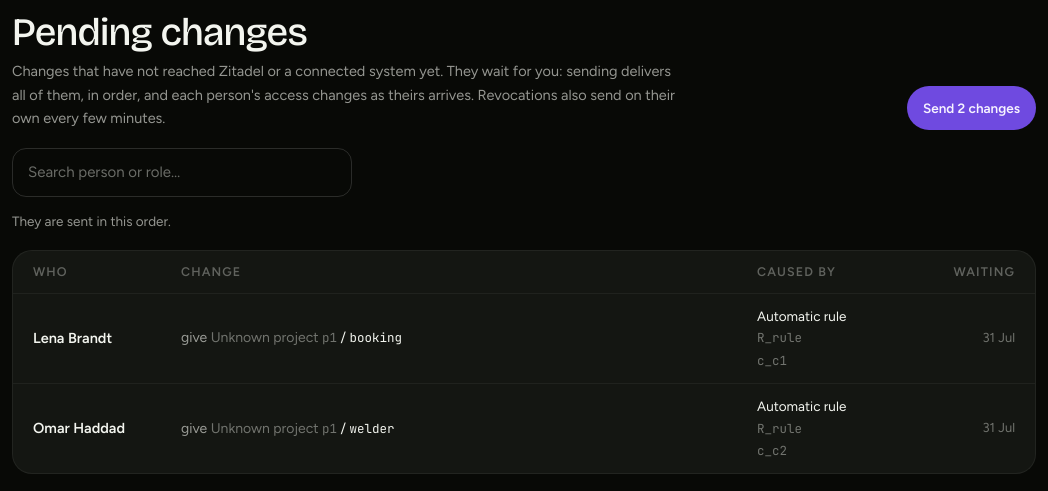
Test: Pending changes · board layout › search › says so when nothing matches, rather than claiming nothing is waiting
This screenshot has width=1048, height=491.
In the field named "Search pending changes": (182, 173) [12, 148, 352, 197], type "zzz"
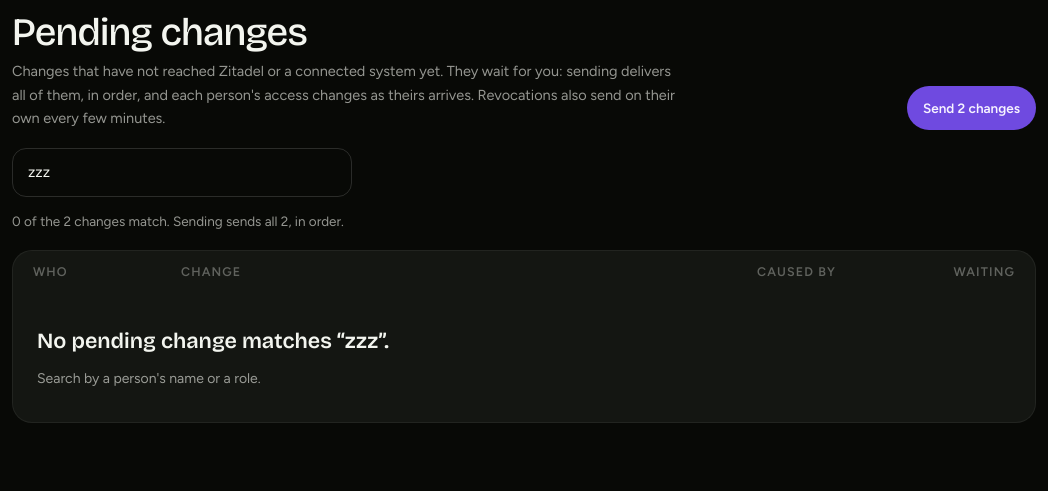
Now the text "No pending change matches “zzz”." is shown, box [37, 324, 389, 358]
